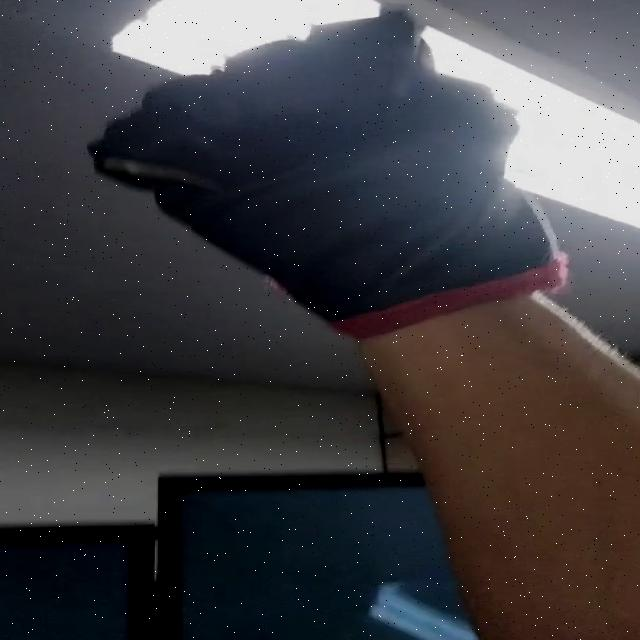Gloves: (95, 3, 573, 334)
